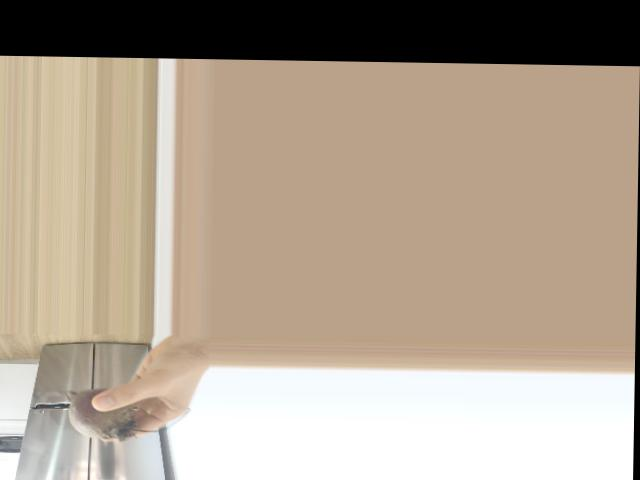beet: (56, 387, 190, 442)
